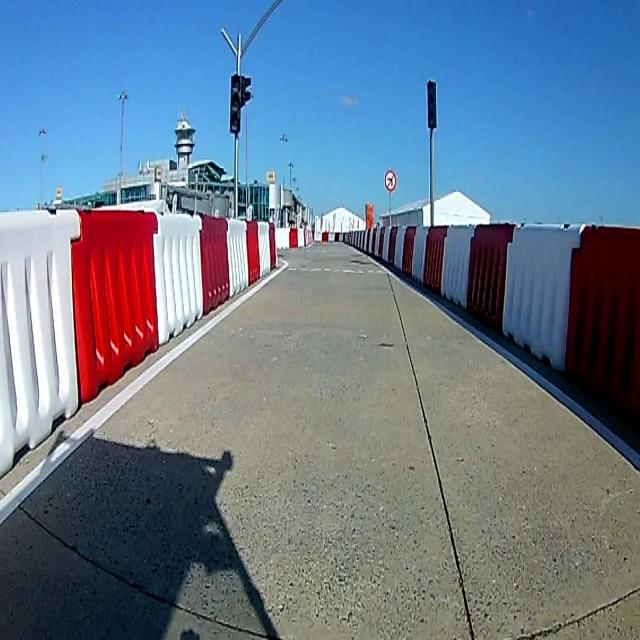soladonulmez: (383, 168, 398, 192)
